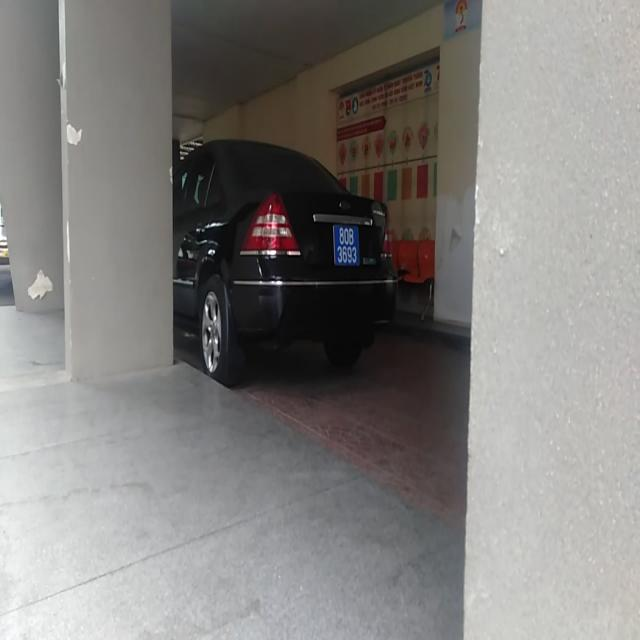bien_xanh: (329, 222, 361, 272)
